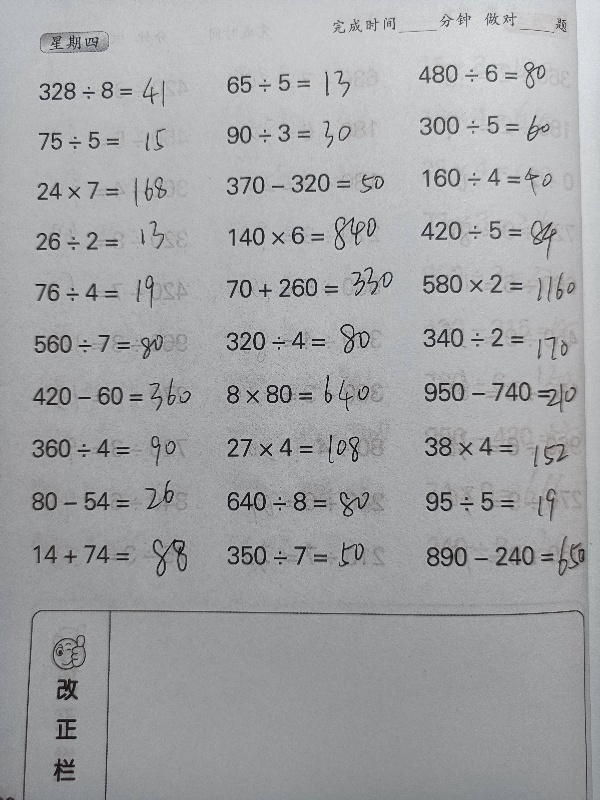equation: (417, 533, 597, 588), (218, 365, 398, 415), (221, 212, 401, 262), (24, 374, 204, 422), (28, 212, 210, 258), (415, 370, 592, 415), (415, 208, 573, 257), (31, 68, 211, 111), (417, 429, 582, 474), (219, 484, 399, 525), (219, 535, 399, 575), (26, 327, 206, 367), (411, 50, 561, 97), (218, 165, 398, 202), (414, 321, 579, 361), (412, 108, 568, 150), (417, 480, 582, 519), (415, 265, 586, 302), (25, 537, 205, 572), (23, 484, 203, 519), (24, 431, 204, 466), (218, 324, 398, 359), (218, 270, 398, 305), (413, 158, 565, 199), (219, 431, 399, 465), (218, 117, 398, 151), (28, 276, 208, 309), (28, 174, 208, 207), (30, 124, 210, 157), (218, 66, 398, 99)
